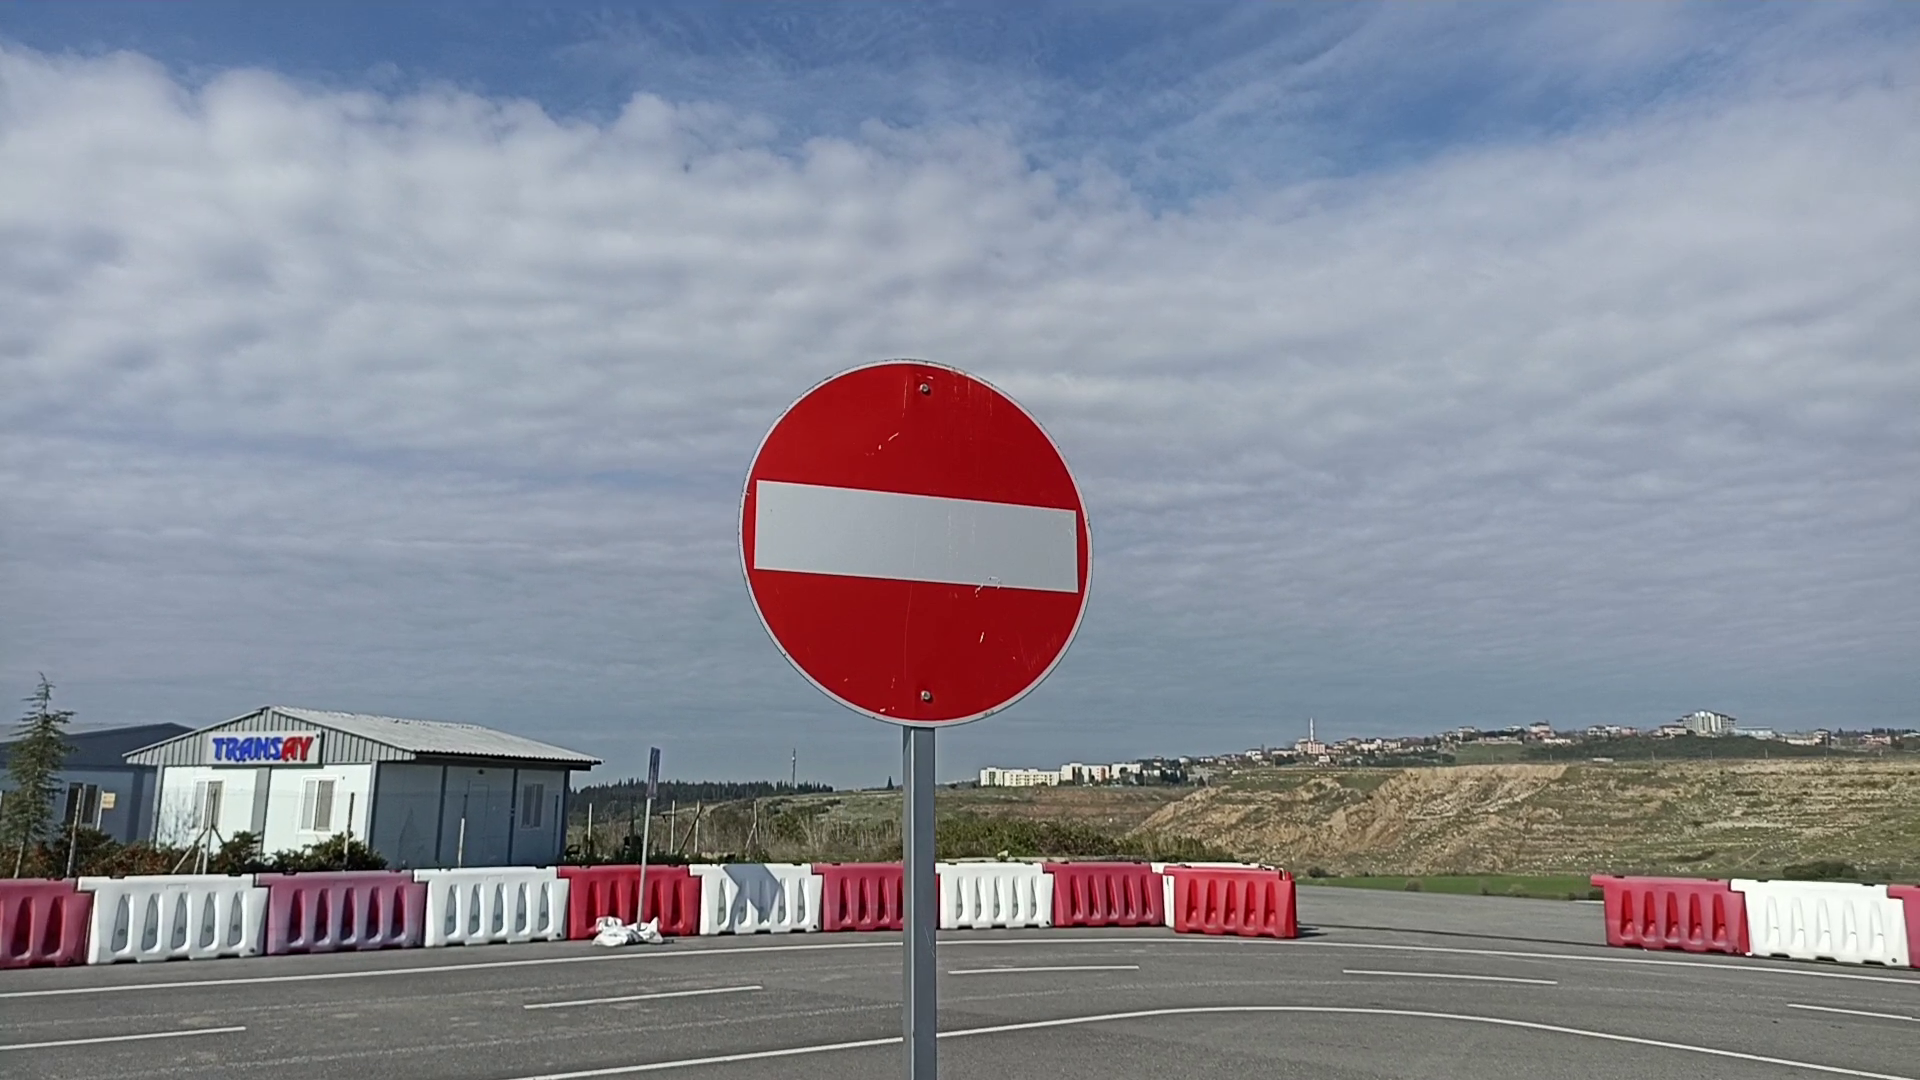noentryway: (735, 353, 1095, 733)
